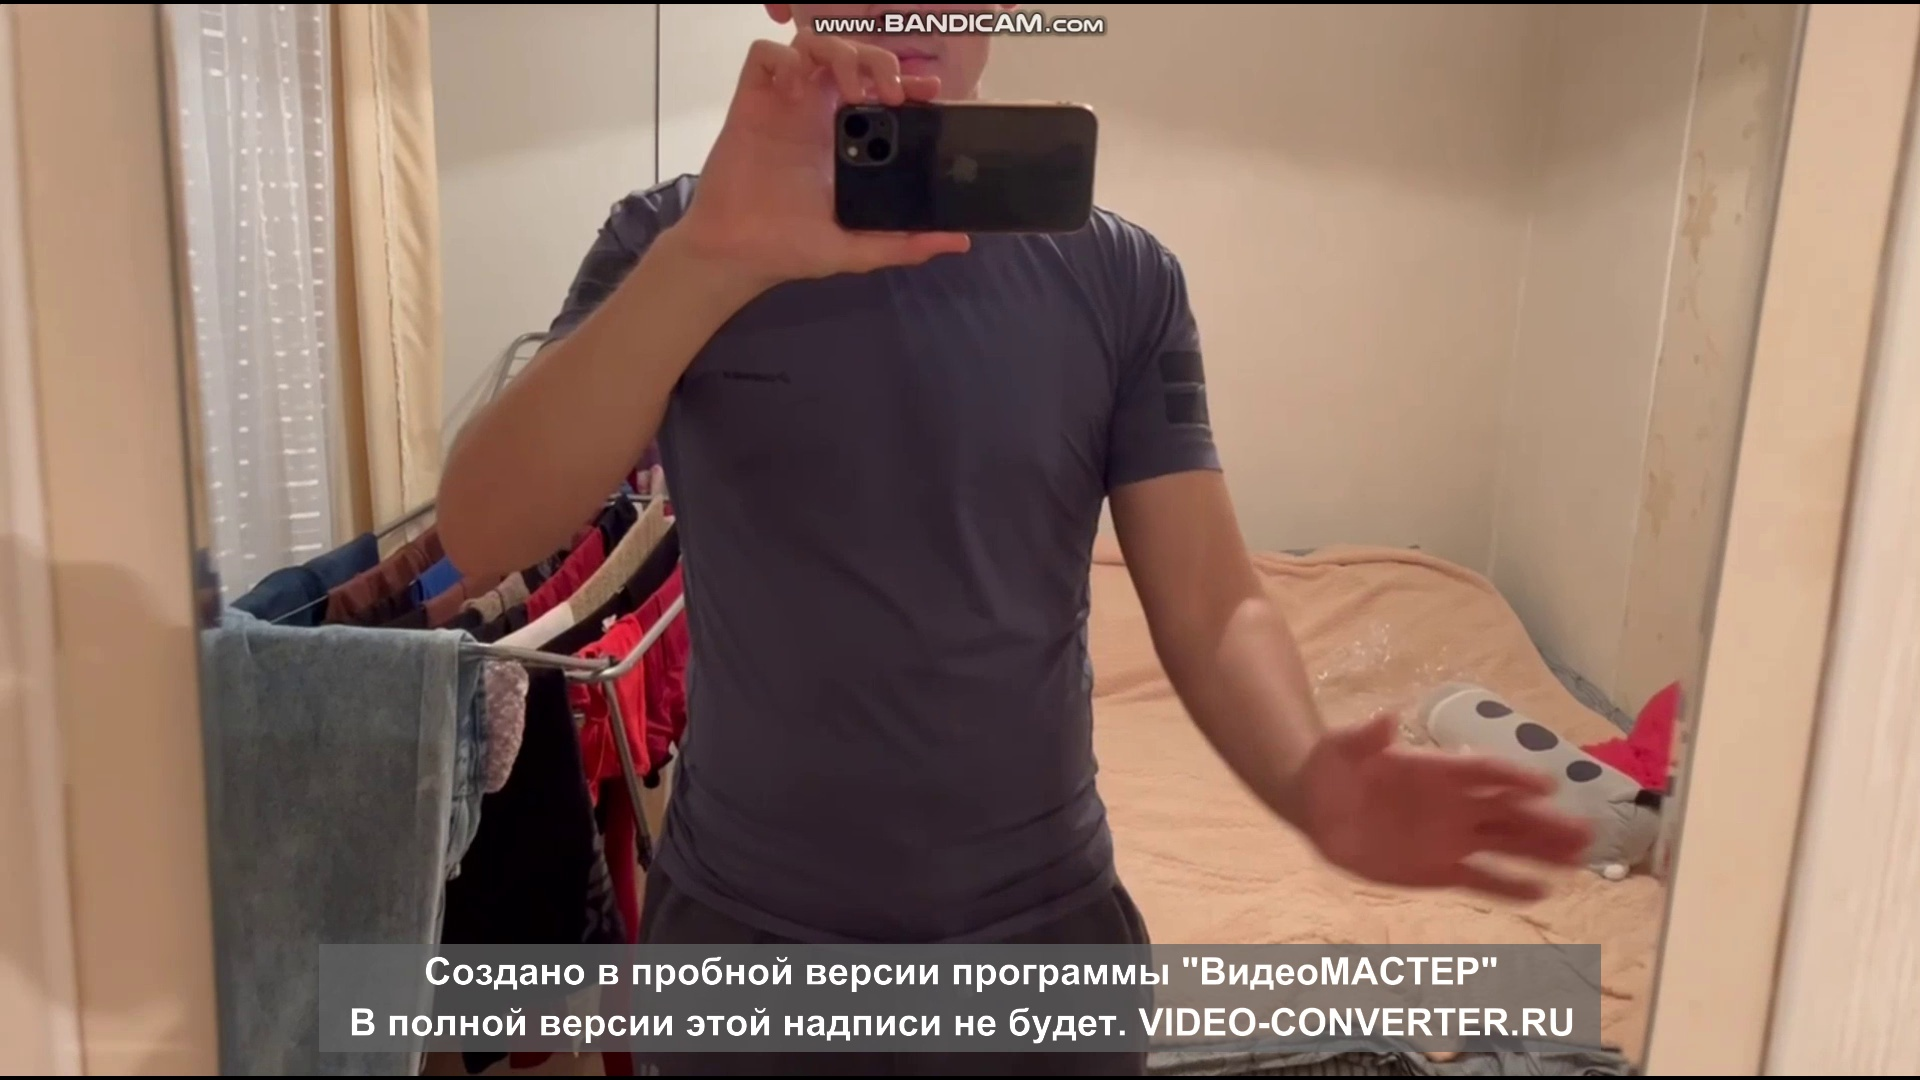Ладонь: (1304, 705, 1594, 906)
